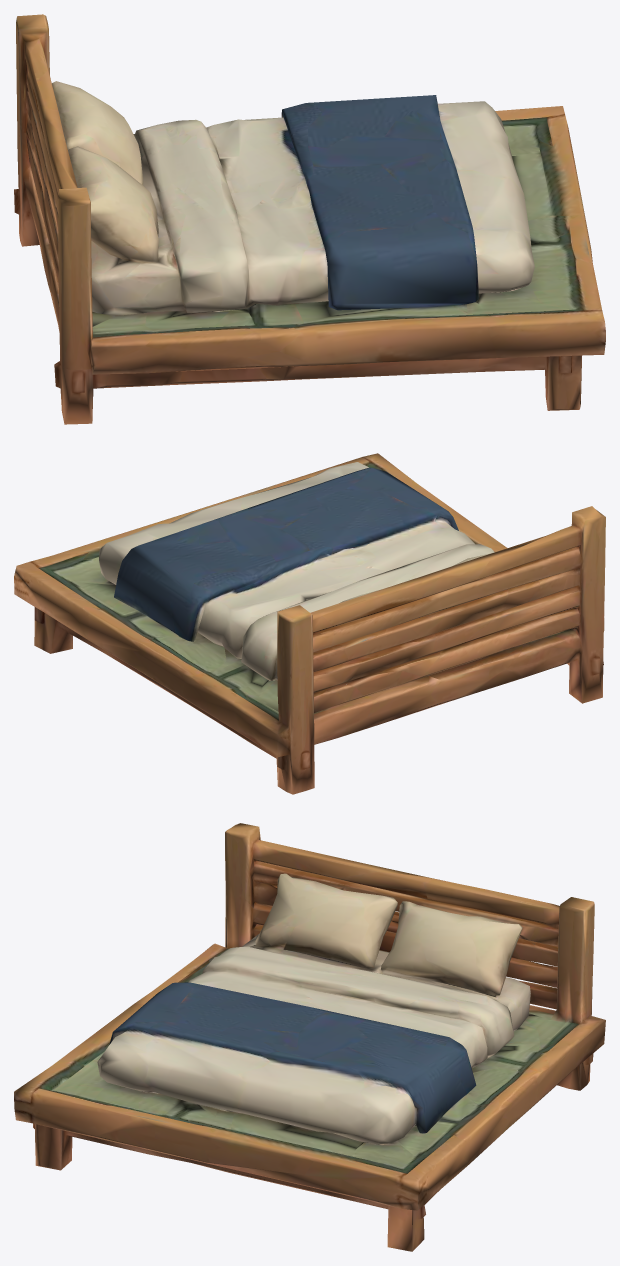
The model's file is au_furn_bed_futon.glb.
3 renders of one model, top to bottom at view 1: azimuth 30°, elevation 25°; view 2: azimuth 150°, elevation 25°; view 3: azimuth 270°, elevation 25°, orthographic. The views are drawn at different scales.
Visible parts, largest first — view 1: tripo_node_fc4e0836-85cc-47eb-8cc4-e14d5ca28093; view 2: tripo_node_fc4e0836-85cc-47eb-8cc4-e14d5ca28093; view 3: tripo_node_fc4e0836-85cc-47eb-8cc4-e14d5ca28093.
Part boxes in pixels (<box>): tripo_node_fc4e0836-85cc-47eb-8cc4-e14d5ca28093: <box>14,14,605,424</box>; tripo_node_fc4e0836-85cc-47eb-8cc4-e14d5ca28093: <box>14,453,605,794</box>; tripo_node_fc4e0836-85cc-47eb-8cc4-e14d5ca28093: <box>14,823,605,1251</box>.
Bounding box in the file's own units: 0.9761 × 0.3486 × 0.9794.
Materials: 1 (1 with a texture image).
